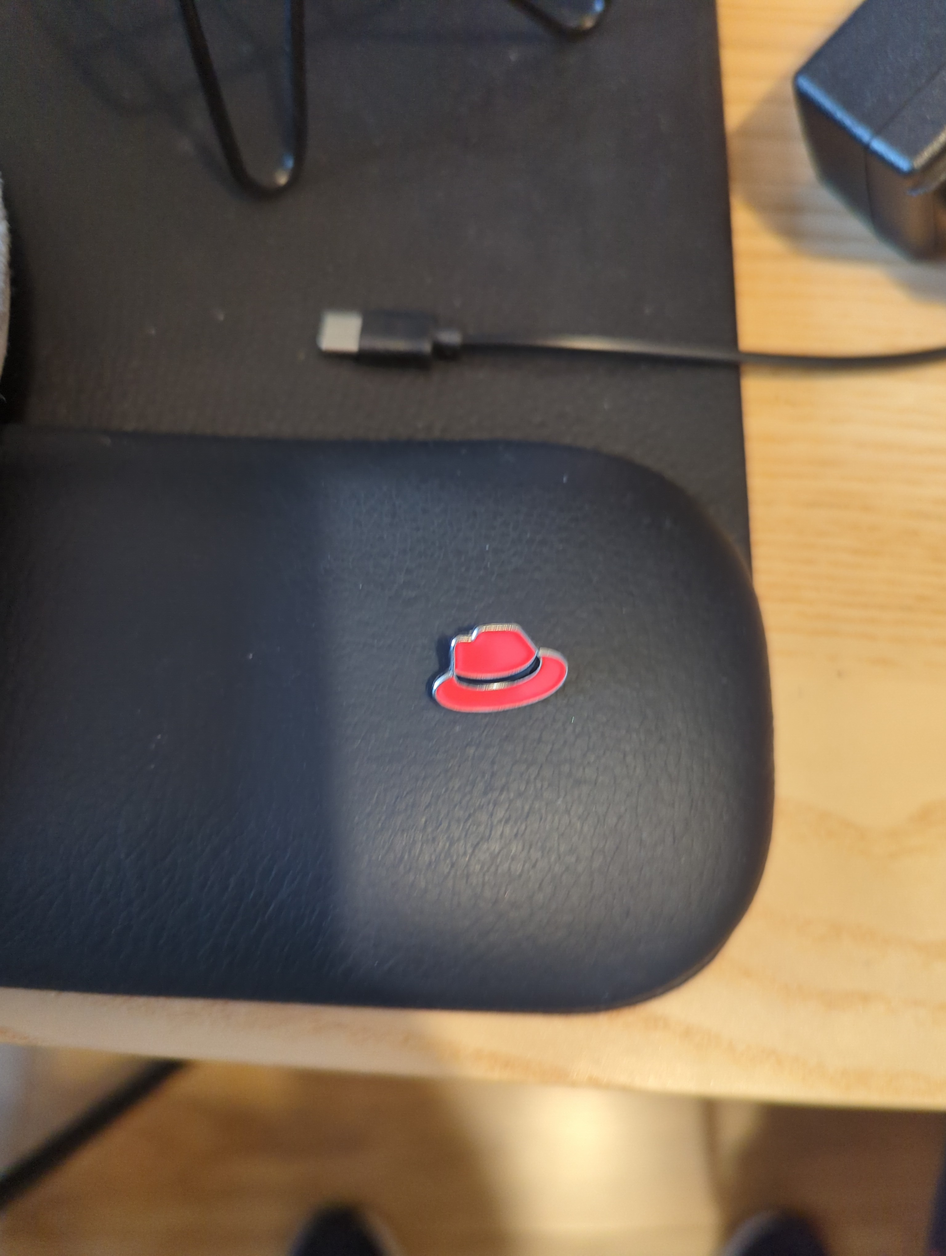Red-Hat: (347, 561, 681, 796)
